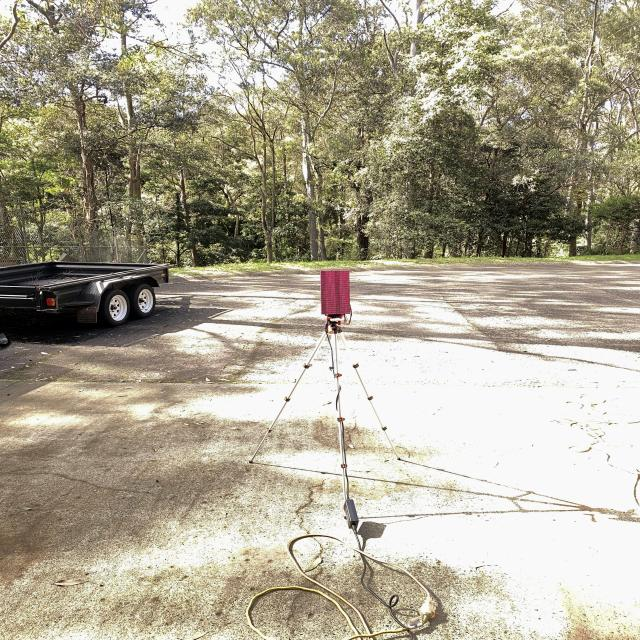matrix: (315, 264, 357, 318)
